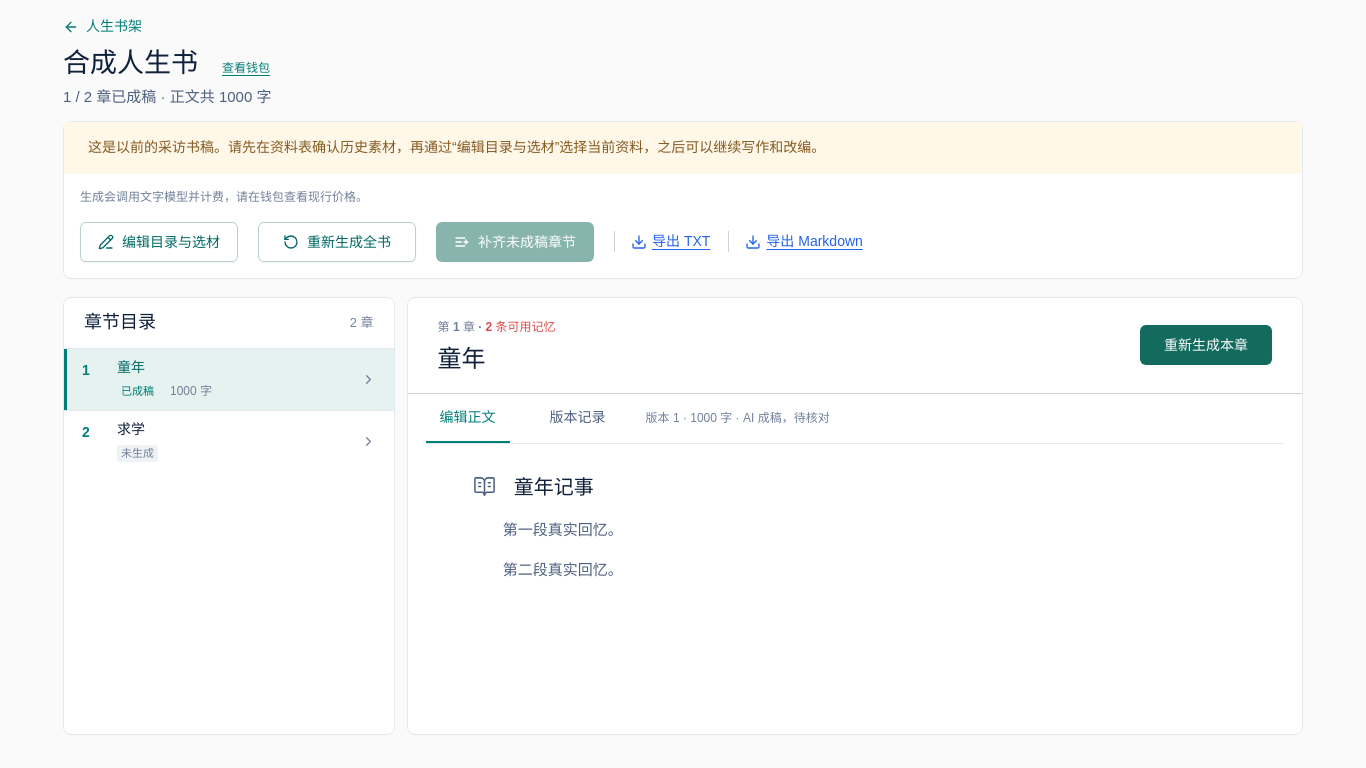
Test: regenerates the whole book including chapters with saved prose
The image size is (1366, 768).
Step 1. Click the button "重新生成全书" → (337, 242), box [258,222,416,262]
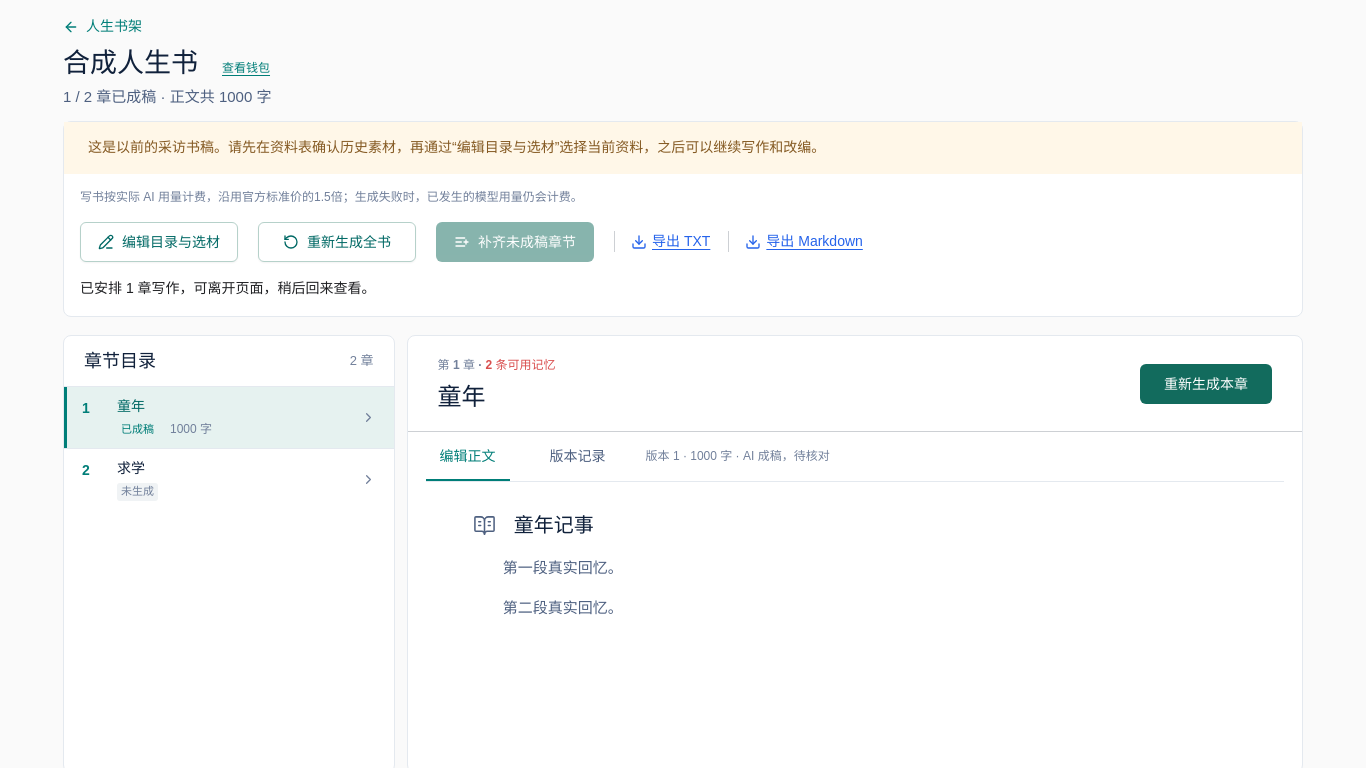
Expected: the text "已安排 1 章写作，可离开页面，稍后回来查看。" is shown, [80,280,376,296]
